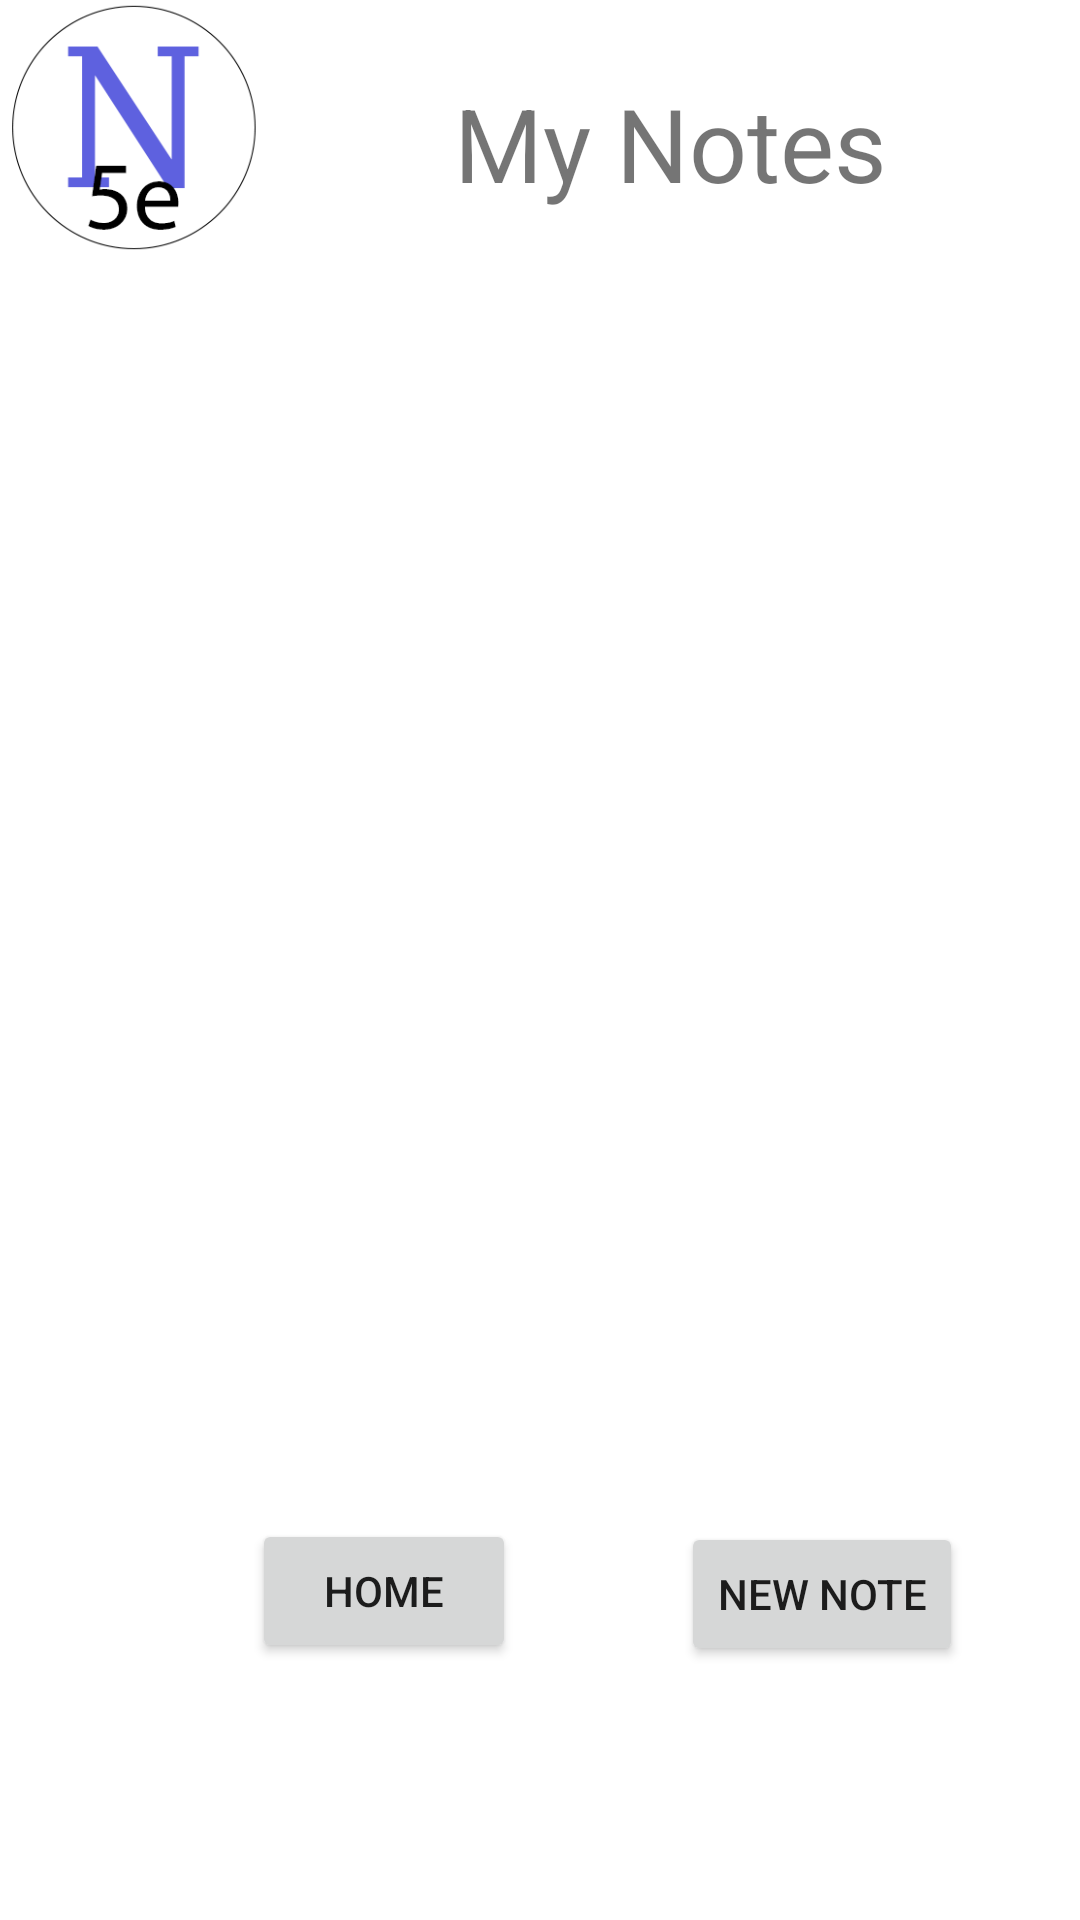

Screen size 1080px x 1920px. Icon name, then its box in pixels as (x1, y1, x2, y2):
enotes: (12, 5, 256, 250)
